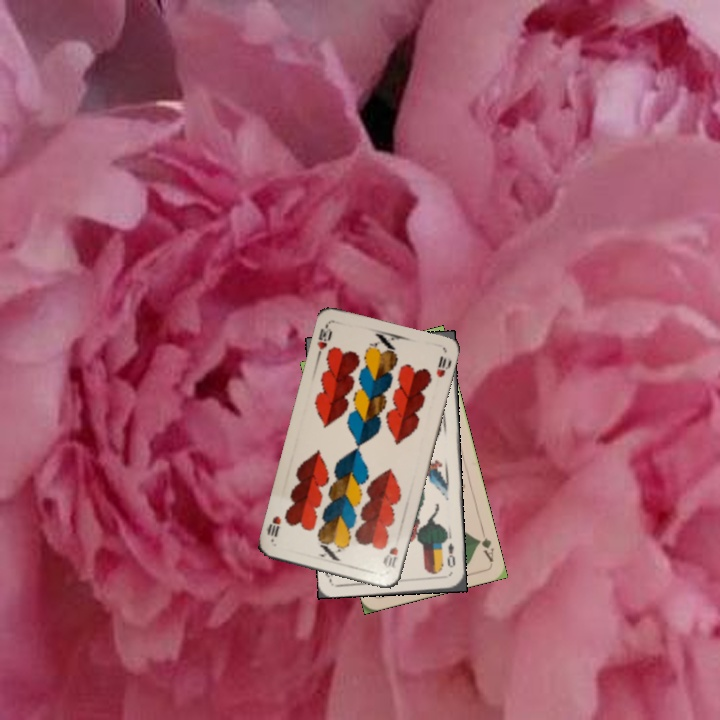EO: (443, 539, 457, 570)
GA: (473, 525, 496, 565)
H10: (313, 320, 335, 352), (380, 543, 401, 571)
